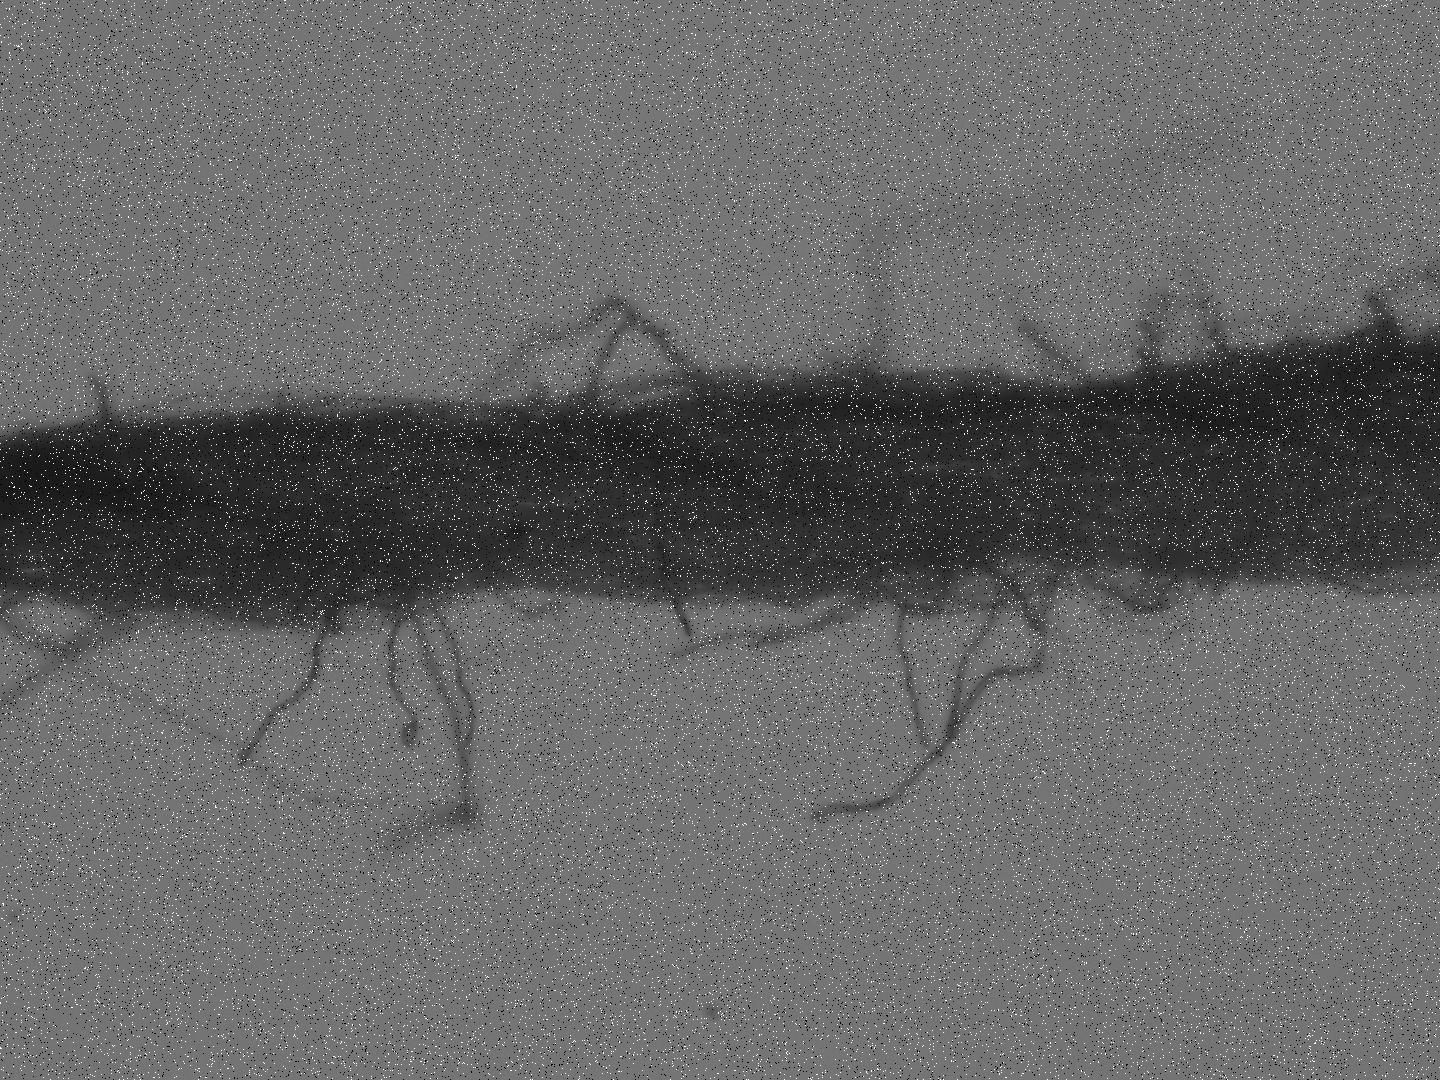loop_fiber: (807, 545, 1248, 825), (1005, 243, 1440, 385), (457, 289, 722, 428), (382, 585, 484, 857), (1, 592, 256, 658), (100, 388, 431, 427), (1335, 558, 1440, 598)
protruding_fiber: (848, 117, 1208, 386), (6, 602, 395, 816), (232, 602, 346, 773), (666, 582, 881, 665), (1, 604, 113, 710), (891, 587, 934, 760), (382, 605, 420, 753), (493, 580, 573, 619), (88, 368, 120, 429), (668, 591, 692, 634)
